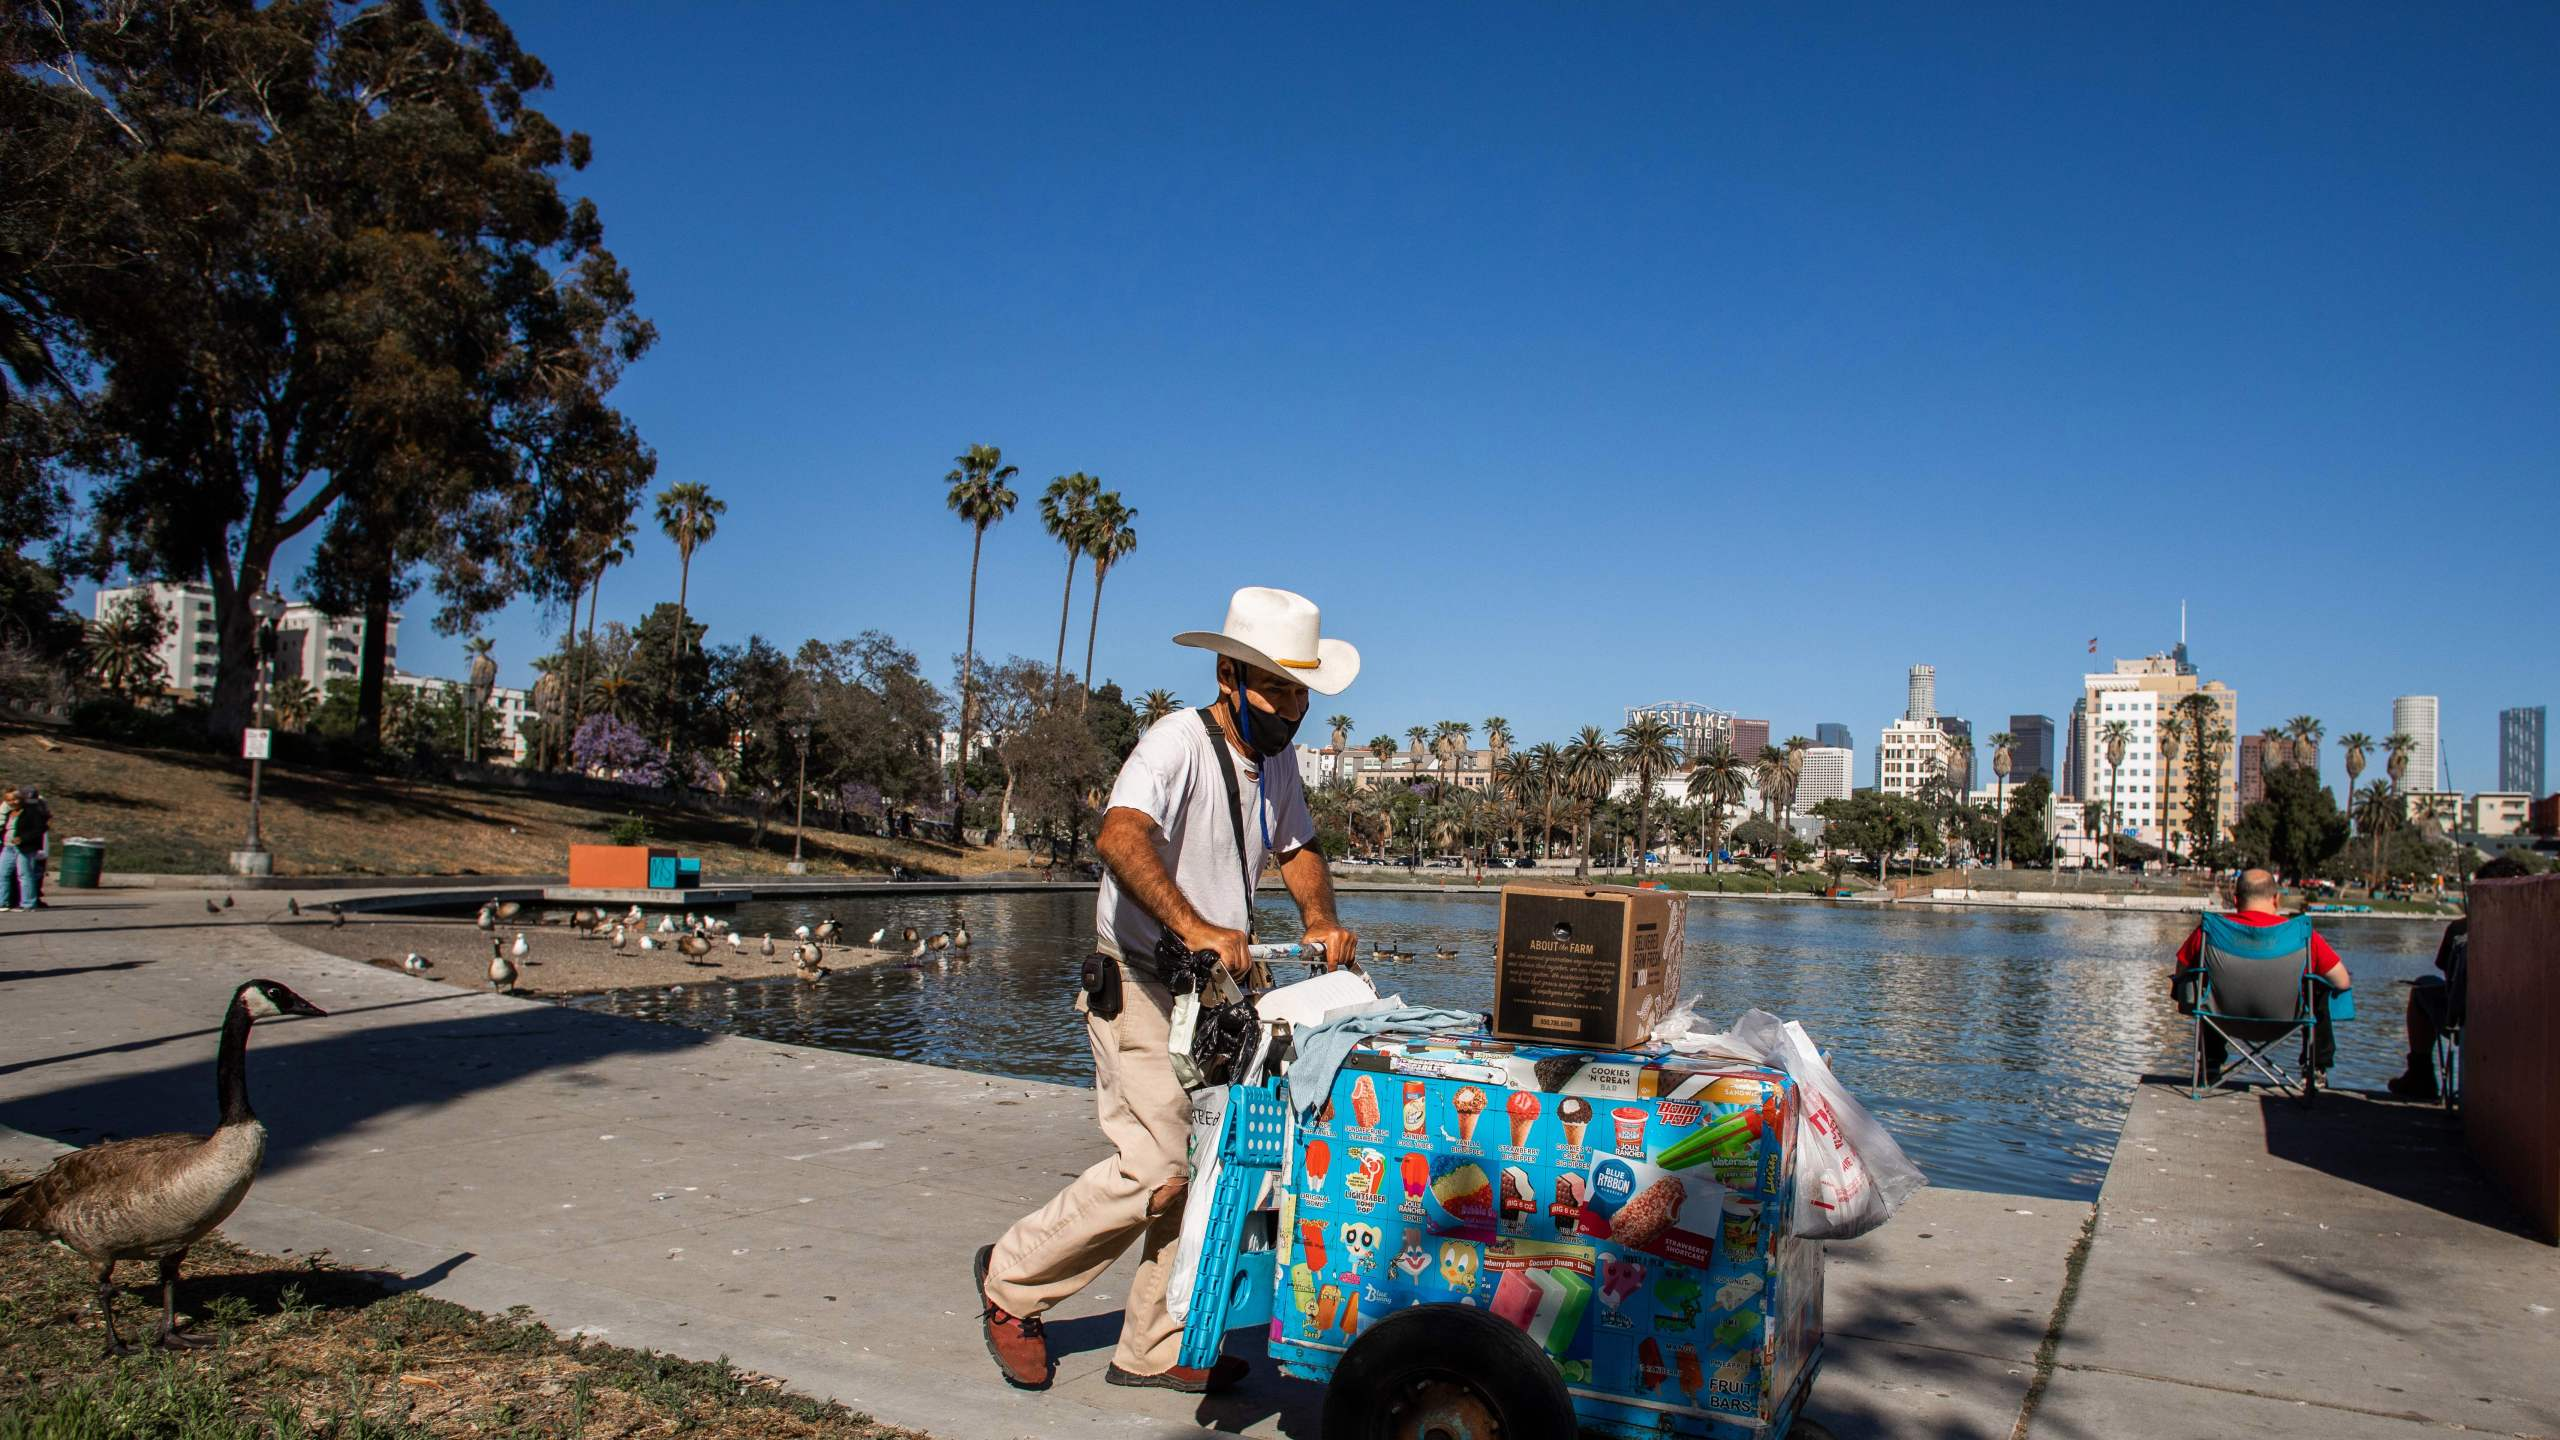box: (1500, 881, 1692, 1051)
cart: (1298, 1045, 1818, 1440)
person: (983, 586, 1303, 1381)
tree: (126, 11, 437, 733)
